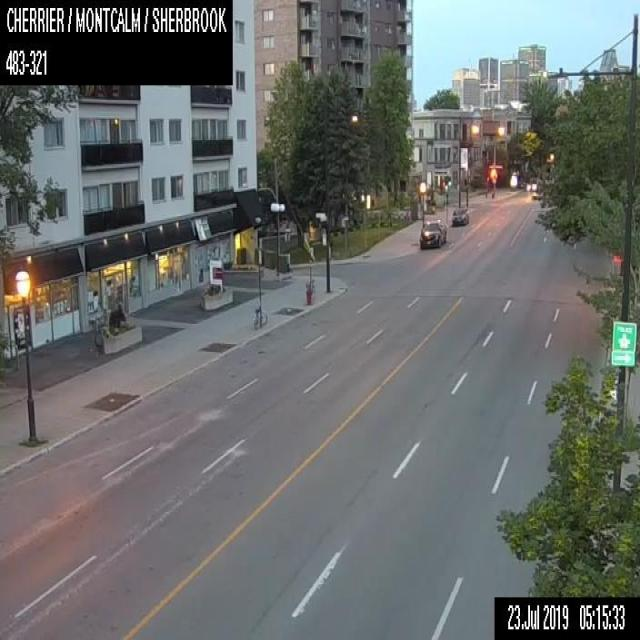vehicle: (418, 219, 447, 247), (451, 207, 468, 226), (525, 176, 540, 190)
